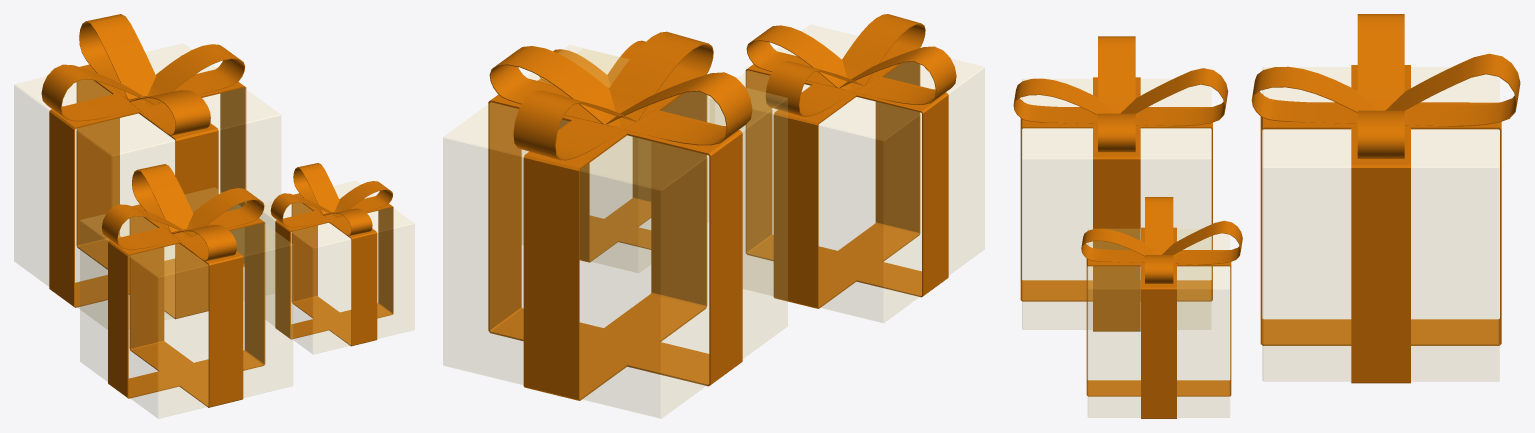
3 renders of one model, left to right at view 1: azimuth 30°, elevation 25°; view 2: azimuth 150°, elevation 25°; view 3: azimuth 270°, elevation 25°, orthographic. The views are drawn at different scales.
Parts seen in each view (by area): view 1: 7a6480db1902731ce7081dabeb179caec9cc0400 > > root > (×2); view 2: 7a6480db1902731ce7081dabeb179caec9cc0400 > > root > (×2); view 3: 7a6480db1902731ce7081dabeb179caec9cc0400 > > root > (×2).
Boxes of the visible parts, <box> form: 7a6480db1902731ce7081dabeb179caec9cc0400 > > root > (×2): <box>14,14,414,418</box>; 7a6480db1902731ce7081dabeb179caec9cc0400 > > root > (×2): <box>443,14,984,418</box>; 7a6480db1902731ce7081dabeb179caec9cc0400 > > root > (×2): <box>1013,14,1520,418</box>.
Size of the model in its own units: 0.4343 by 0.3166 by 0.5338.
